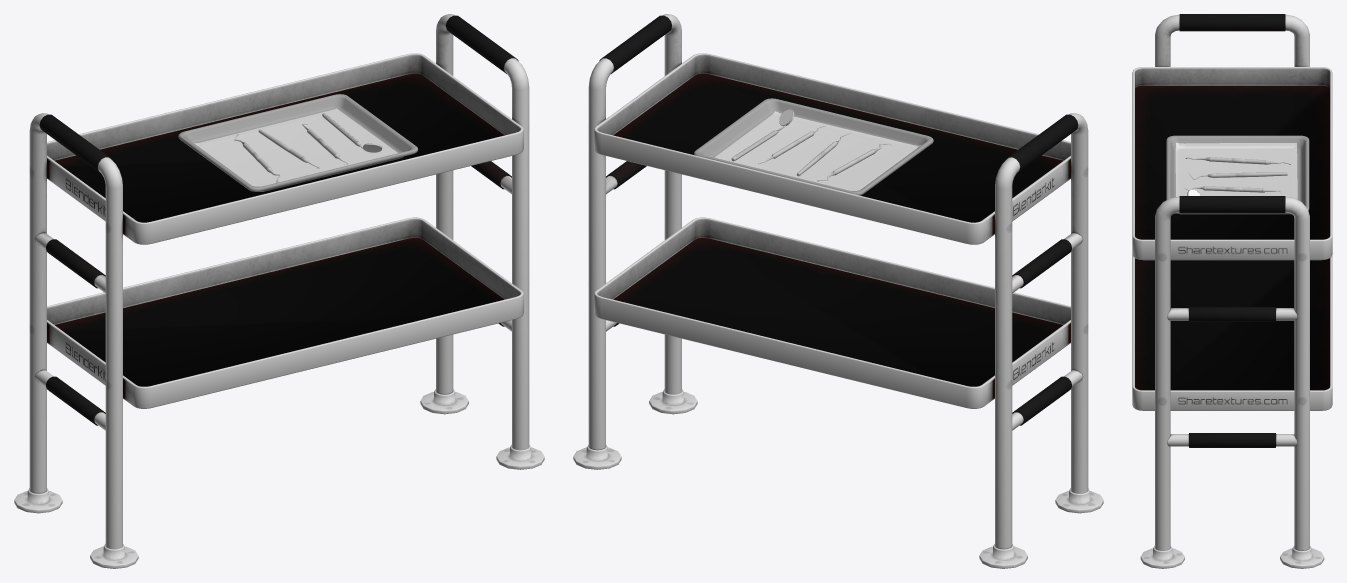
The model's file is operating_bench.glb.
The picture shows the model from 3 angles, left to right: view 1: azimuth 30°, elevation 25°; view 2: azimuth 150°, elevation 25°; view 3: azimuth 270°, elevation 25°; orthographic projection. The views are drawn at different scales.
Visible parts, largest first — view 1: Operating bench 1, DentalTools.Tray; view 2: Operating bench 1, DentalTools.Tray; view 3: Operating bench 1, DentalTools.Tray, DentalTools.WilliamsProbe, DentalTools.SpoonExcavator, DentalTools.Explorer.
Boxes of the visible parts, x1,y1,x2,y2 form: Operating bench 1: [14, 14, 544, 568]; DentalTools.Tray: [178, 94, 418, 191]; Operating bench 1: [573, 14, 1103, 568]; DentalTools.Tray: [694, 98, 933, 195]; Operating bench 1: [1132, 14, 1332, 568]; DentalTools.Tray: [1166, 135, 1309, 214]; DentalTools.WilliamsProbe: [1188, 172, 1287, 179]; DentalTools.SpoonExcavator: [1185, 157, 1290, 164]; DentalTools.Explorer: [1185, 186, 1281, 194].
Bounding box in the file's own units: 0.5546 × 0.4677 × 0.2336.
Materials: 5 (1 with a texture image).
